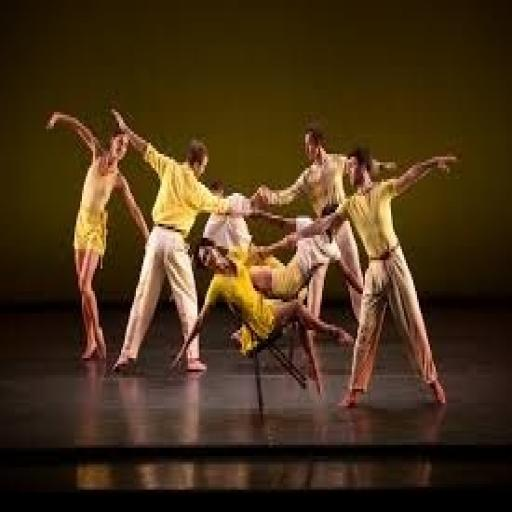dancing: (112, 50, 444, 427), (42, 104, 152, 366)
